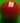red: (0, 0, 20, 23)
